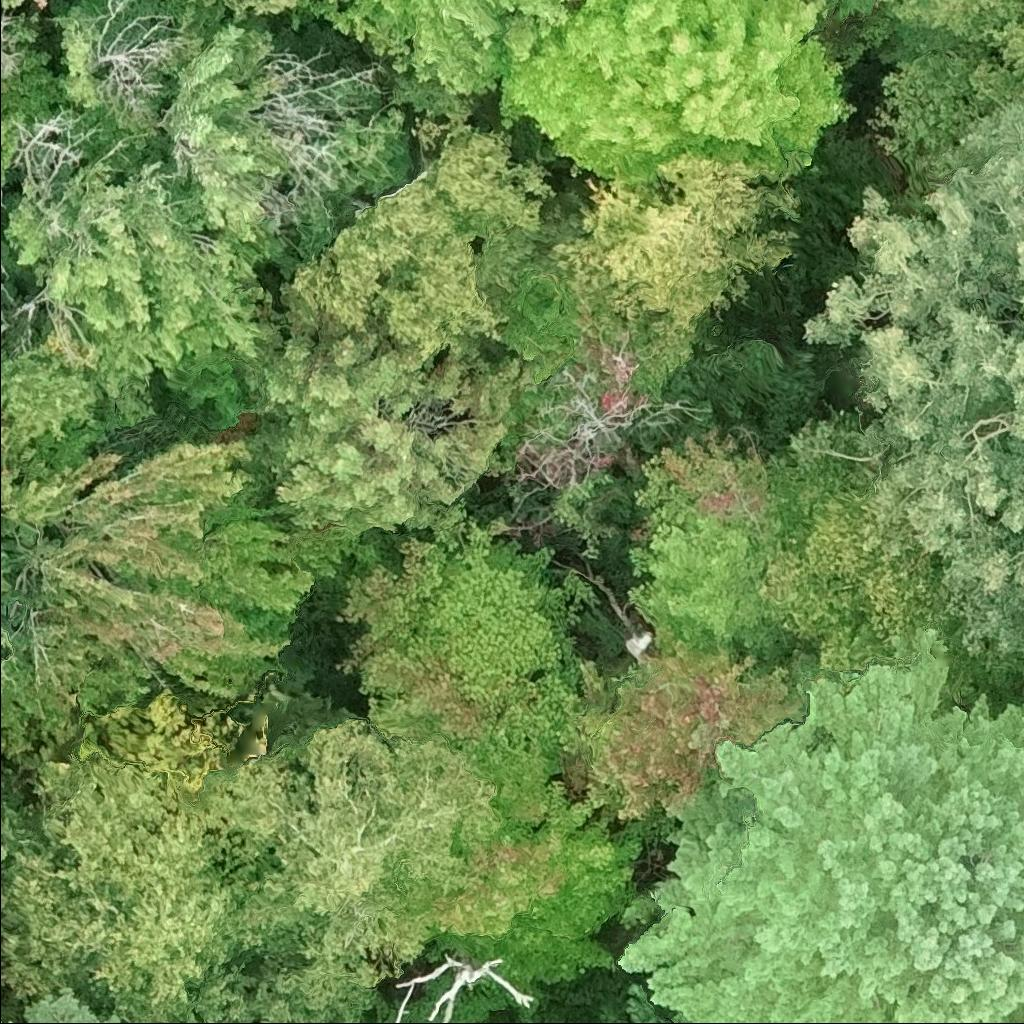crown: (612, 620, 1023, 1023), (801, 99, 1023, 672), (0, 433, 317, 756), (335, 510, 618, 828), (199, 718, 510, 1005), (765, 408, 1023, 707), (0, 756, 278, 1023), (570, 639, 801, 829), (434, 783, 643, 986), (21, 987, 131, 1023), (0, 623, 11, 663), (0, 1004, 15, 1023), (0, 844, 9, 863)
